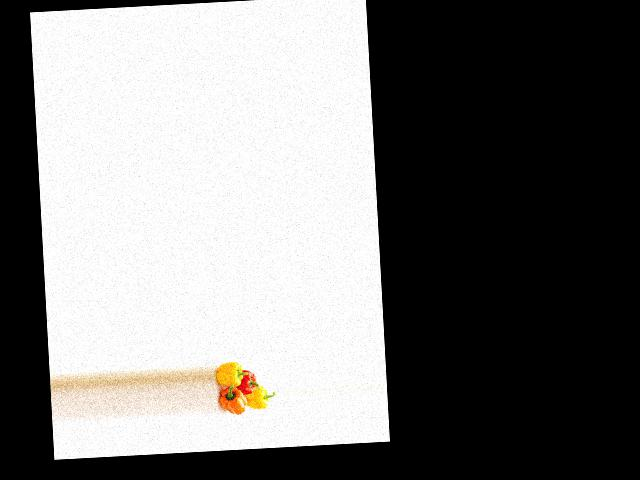bell_pepper: (214, 360, 248, 394)
